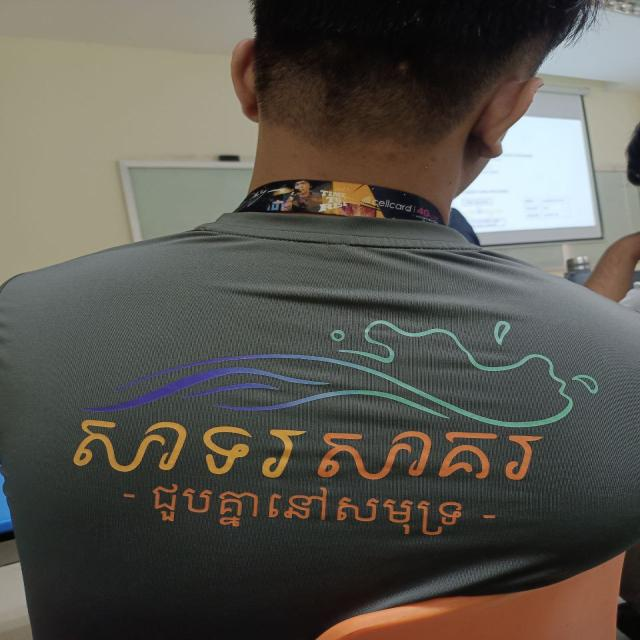Yolov11_80vkh: (65, 405, 559, 494), (143, 480, 477, 541)
